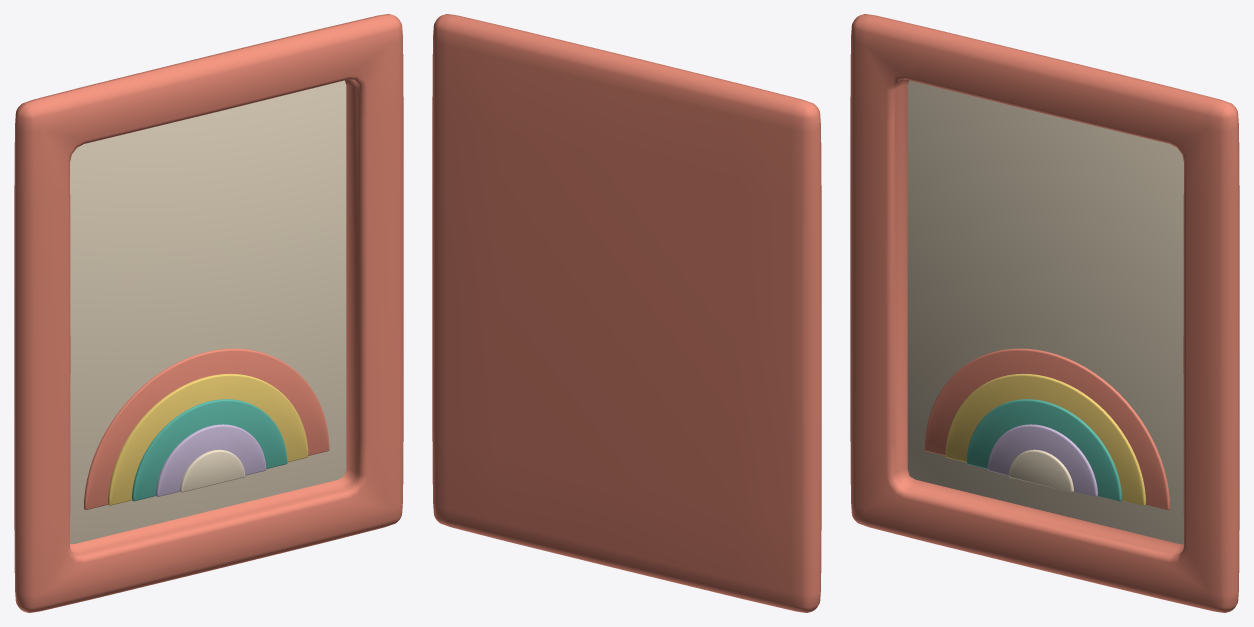
File: poster_b.glb
3 renders of one model, left to right at view 1: azimuth 30°, elevation 25°; view 2: azimuth 150°, elevation 25°; view 3: azimuth 330°, elevation 25°, orthographic.
Visible parts, largest first — view 1: body; view 2: body; view 3: body.
Boxes of the visible parts, x1,y1,x2,y2 form: body: (14, 14, 403, 612); body: (432, 14, 821, 612); body: (850, 14, 1239, 612).
Bounding box in the file's own units: 0.6 × 0.76 × 0.0513.
